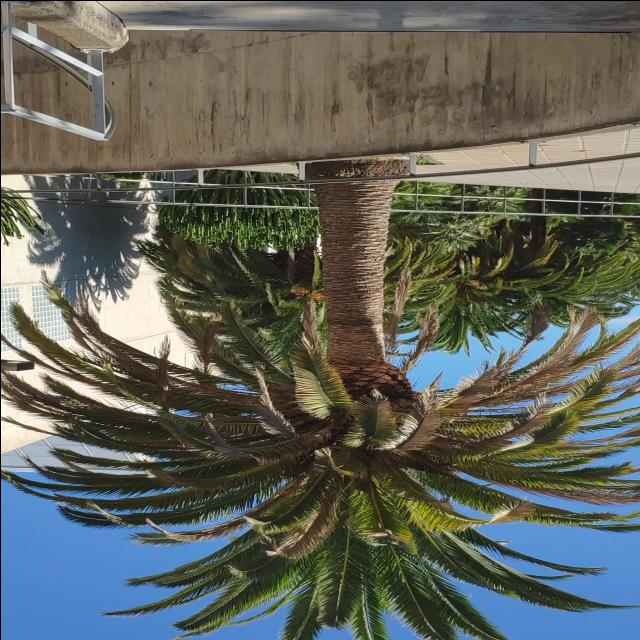Palm-Trees: (30, 161, 640, 640)
